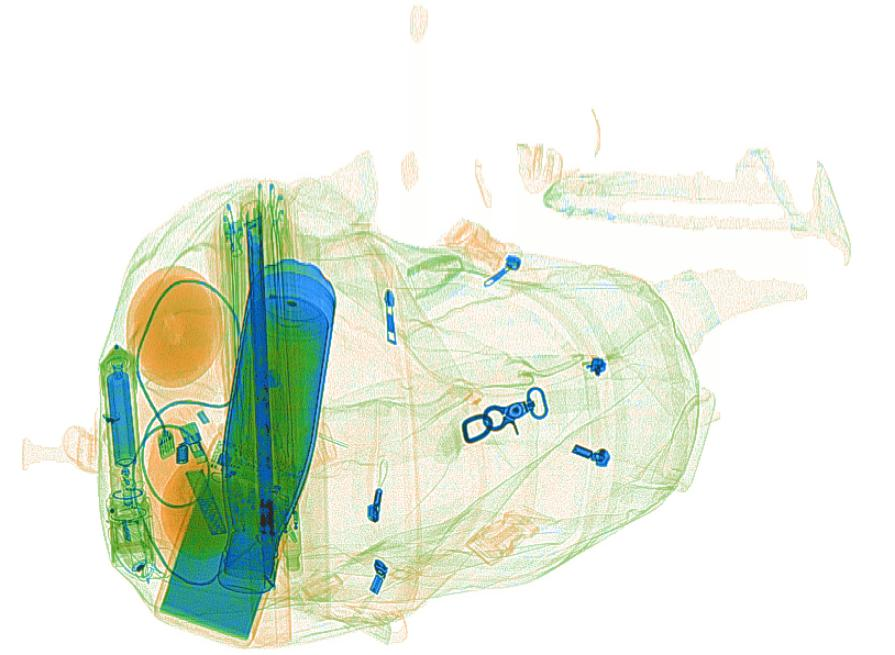battery: (105, 368, 138, 467)
